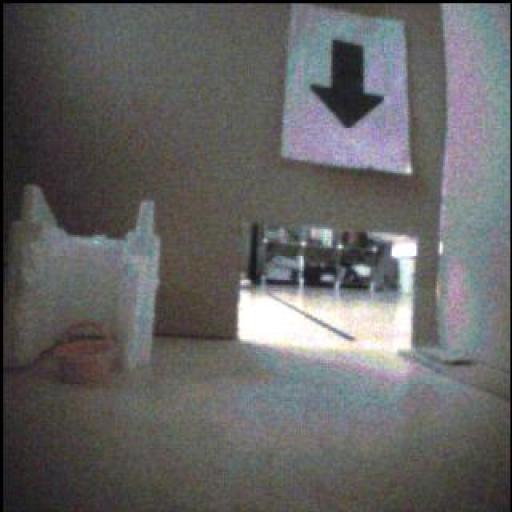arrow: (311, 41, 385, 129)
